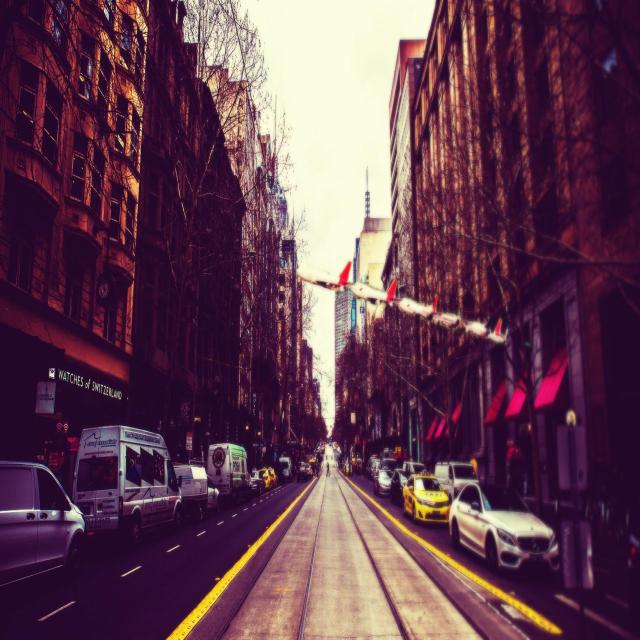airplane: (295, 255, 351, 296), (349, 276, 397, 310), (462, 314, 508, 344), (397, 290, 437, 322), (432, 307, 460, 330)
